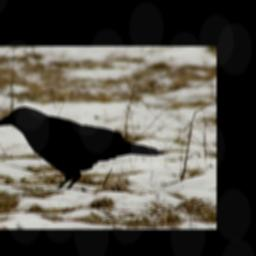Crow: (0, 102, 163, 191)
